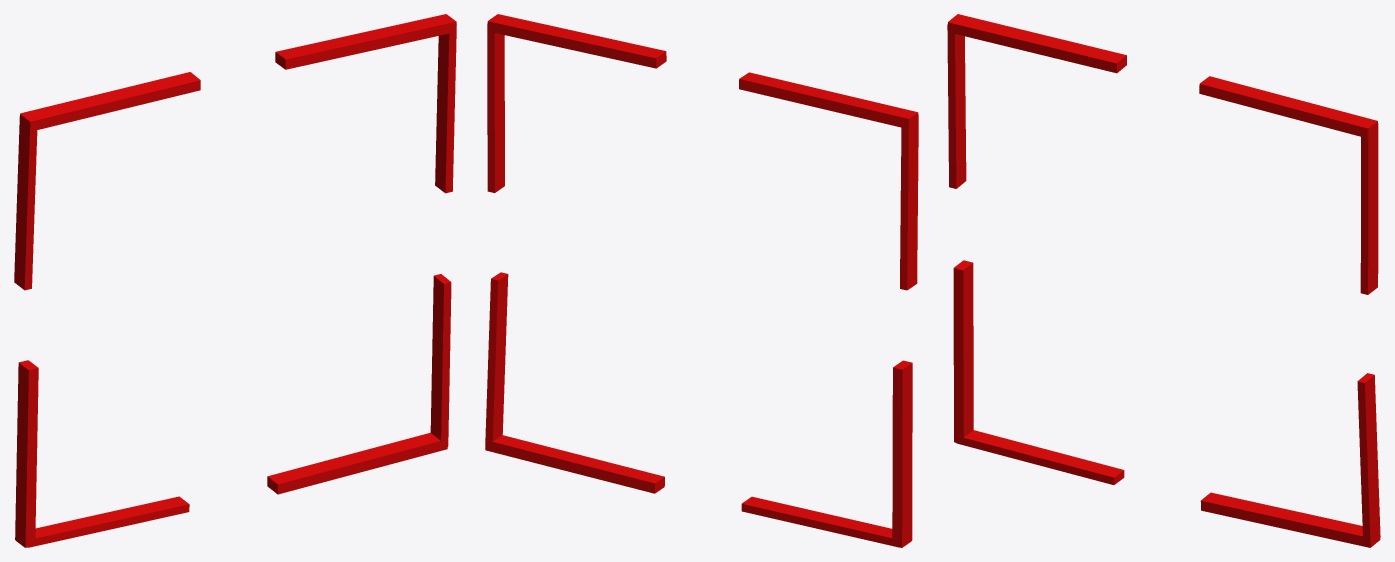
File: ring.fbx
3 views of the same model, side by side, from view 1: azimuth 30°, elevation 25°; view 2: azimuth 150°, elevation 25°; view 3: azimuth 330°, elevation 25° (orthographic).
Visible parts, largest first — view 1: pCube7; view 2: pCube7; view 3: pCube7.
Part boxes in pixels (x1,y1,x2,y2): pCube7: [14, 14, 456, 547]; pCube7: [485, 14, 918, 547]; pCube7: [947, 14, 1380, 547].
Bounding box in the file's own units: 9.21 × 9 × 0.6034.
